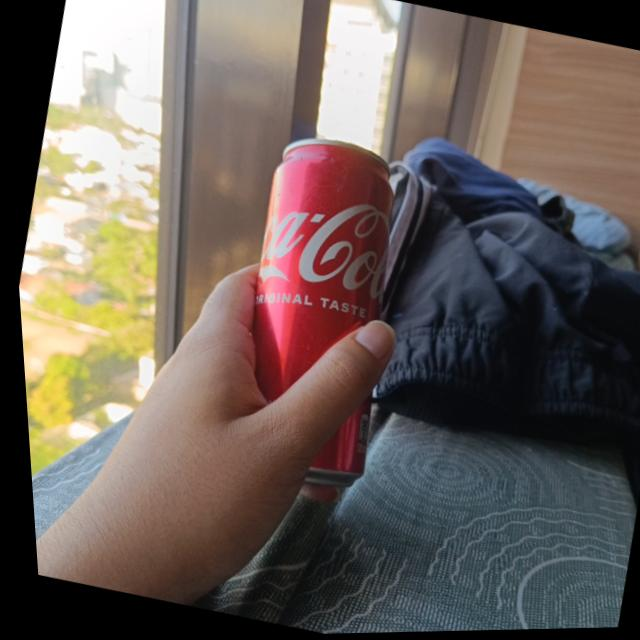coke: (198, 126, 428, 499)
